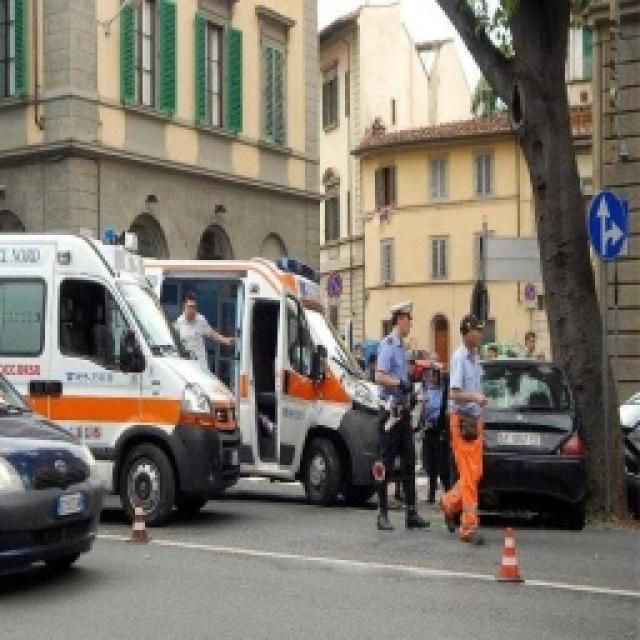emergency-vehicle: (109, 253, 409, 508), (0, 218, 244, 531)
